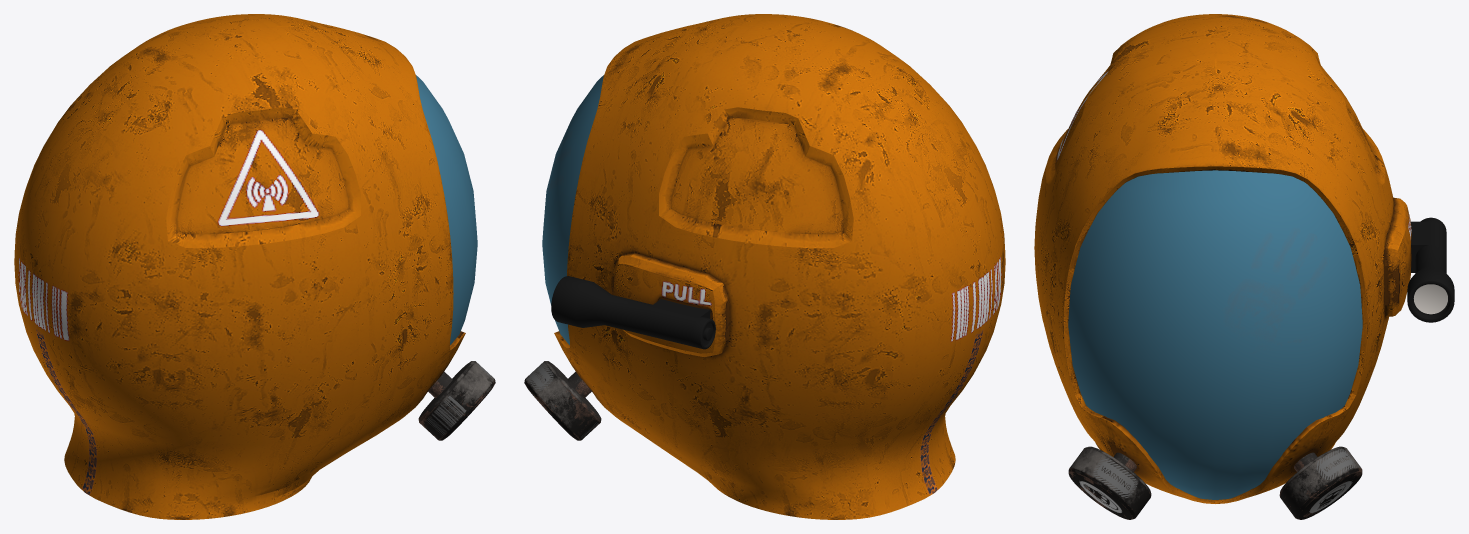
File: Space helmetv2final.fbx
3 views of the same model, side by side, from view 1: azimuth 30°, elevation 25°; view 2: azimuth 150°, elevation 25°; view 3: azimuth 270°, elevation 25° (orthographic).
Visible parts, largest first — view 1: Sphere, Sphere.001, Filters; view 2: Sphere, Flashlight, Sphere.001, Filters; view 3: Sphere.001, Sphere, Filters, Flashlight.
Part boxes in pixels (x1,y1,x2,y2): Sphere: (14,14,465,519); Sphere.001: (416,75,477,344); Filters: (418,361,495,440); Sphere: (554,14,1005,519); Flashlight: (551,276,715,349); Sphere.001: (542,75,603,344); Filters: (524,361,601,440); Sphere.001: (1068,170,1362,499); Sphere: (1034,14,1411,503); Filters: (1068,446,1362,519); Flashlight: (1407,217,1454,322).
Bounding box in the file's own units: 15.46 × 15.08 × 13.5.
